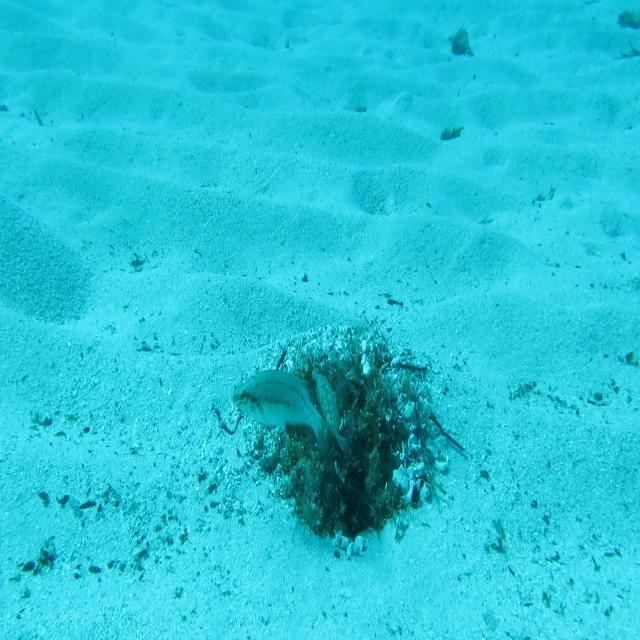NIP_IN: (310, 360, 350, 458)
core_nest: (313, 369, 358, 404)
female: (228, 363, 338, 466)
nest: (230, 314, 454, 568)
vegetation: (608, 1, 640, 61), (448, 23, 476, 62), (440, 125, 464, 144)
